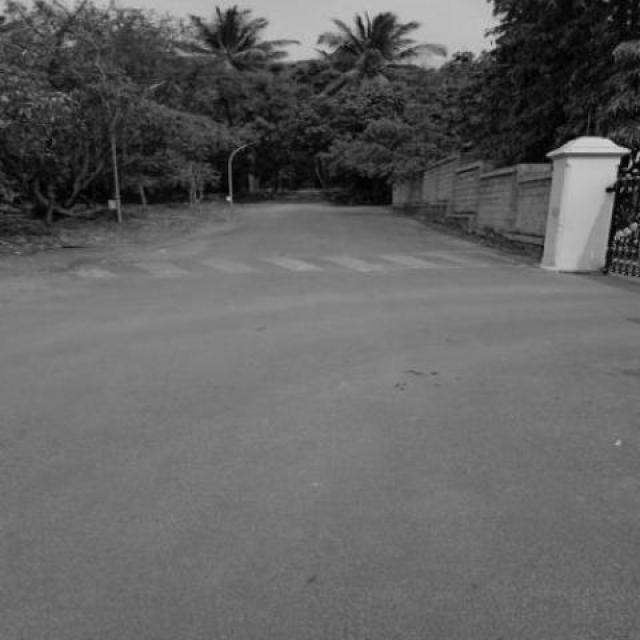Speed Bump: (62, 248, 533, 284)
